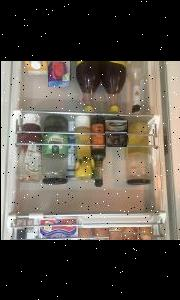Huevos: (122, 226, 138, 240), (93, 227, 107, 240), (78, 227, 92, 240), (139, 226, 151, 240), (109, 226, 121, 240), (128, 232, 142, 240), (113, 232, 127, 240)
Leche: (48, 60, 70, 86), (23, 60, 48, 75)
